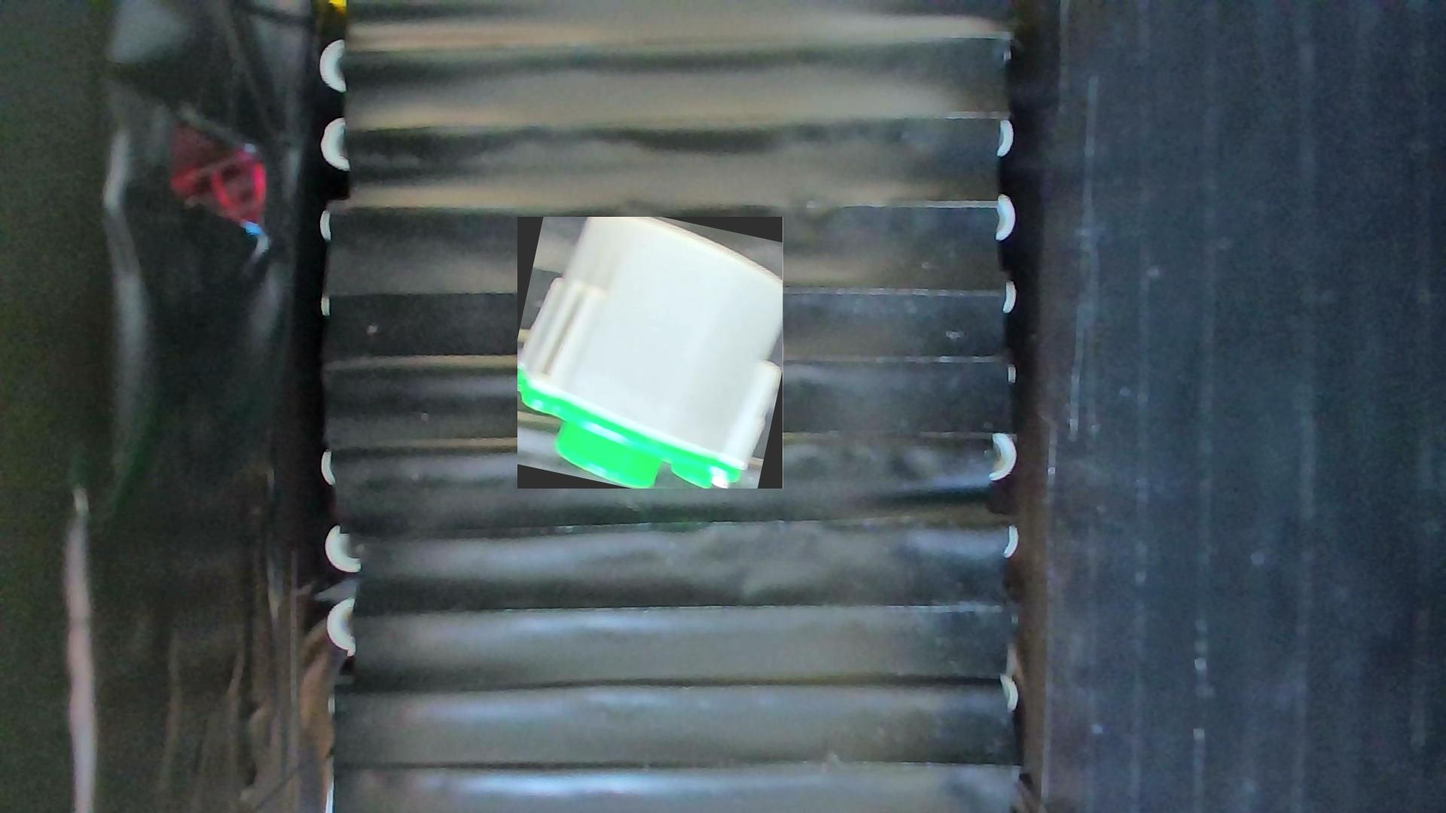cartridge: (518, 217, 784, 489)
